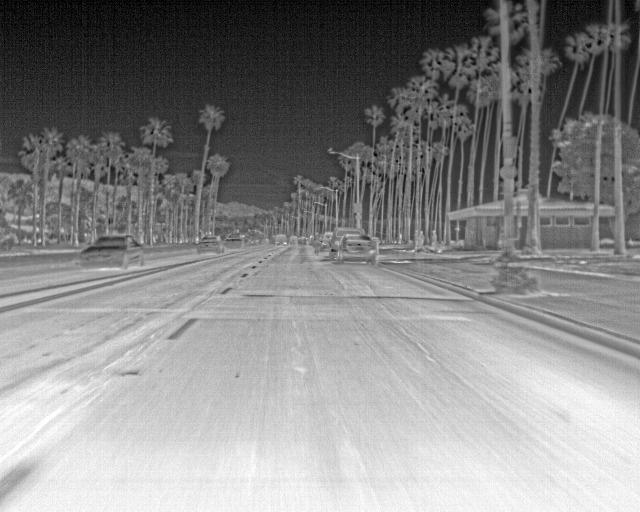bicycle: (78, 234, 144, 269), (334, 233, 377, 267), (328, 226, 363, 261), (196, 235, 225, 254), (224, 231, 246, 249), (318, 230, 333, 252), (274, 232, 288, 246)
empty: (429, 228, 438, 252), (416, 228, 426, 248)
